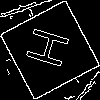H: (25, 25, 79, 73)
